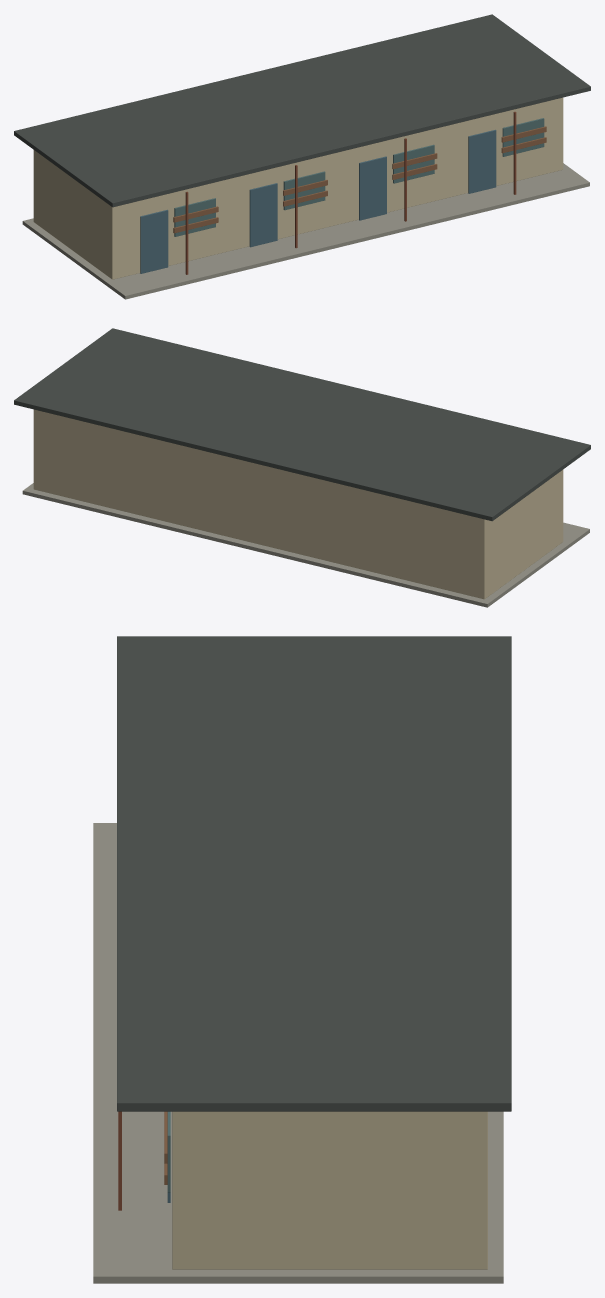
Rendered from env_motel_closed.gltf.
The picture shows the model from 3 angles, top to bottom: view 1: azimuth 30°, elevation 25°; view 2: azimuth 150°, elevation 25°; view 3: azimuth 270°, elevation 25°; orthographic projection. The views are drawn at different scales.
Visible parts, largest first — view 1: env_motel_closed__roof, env_motel_closed__paint_cream, env_motel_closed__concrete, env_motel_closed__paint_blue, env_motel_closed__glass, env_motel_closed__wood, env_motel_closed__rust; view 2: env_motel_closed__roof, env_motel_closed__paint_cream, env_motel_closed__concrete; view 3: env_motel_closed__roof, env_motel_closed__paint_cream, env_motel_closed__concrete.
Boxes of the visible parts, x1,y1,x2,y2 form: env_motel_closed__roof: [14, 14, 590, 207]; env_motel_closed__paint_cream: [33, 97, 563, 279]; env_motel_closed__concrete: [22, 163, 589, 299]; env_motel_closed__paint_blue: [140, 129, 496, 273]; env_motel_closed__glass: [174, 118, 544, 236]; env_motel_closed__wood: [173, 126, 546, 233]; env_motel_closed__rust: [185, 111, 516, 274]; env_motel_closed__roof: [14, 328, 590, 521]; env_motel_closed__paint_cream: [33, 409, 563, 599]; env_motel_closed__concrete: [22, 483, 589, 607]; env_motel_closed__roof: [117, 636, 511, 1111]; env_motel_closed__paint_cream: [172, 1111, 487, 1269]; env_motel_closed__concrete: [93, 823, 503, 1283].
Bounding box in the file's own units: 70 × 13.1 × 26.5.
